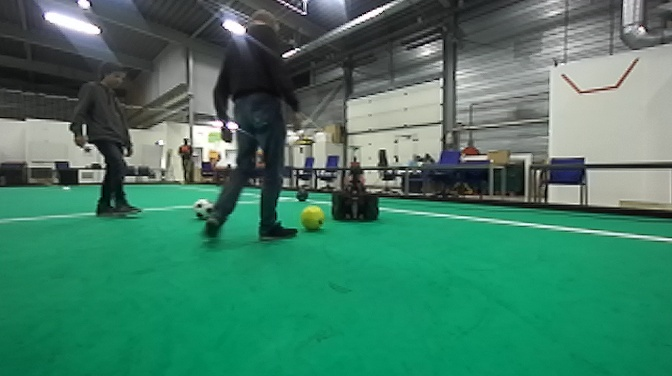ball: (298, 201, 326, 230), (190, 195, 218, 222), (293, 187, 309, 204)
human: (203, 12, 302, 243), (68, 57, 142, 222)
robot: (327, 141, 380, 222)
